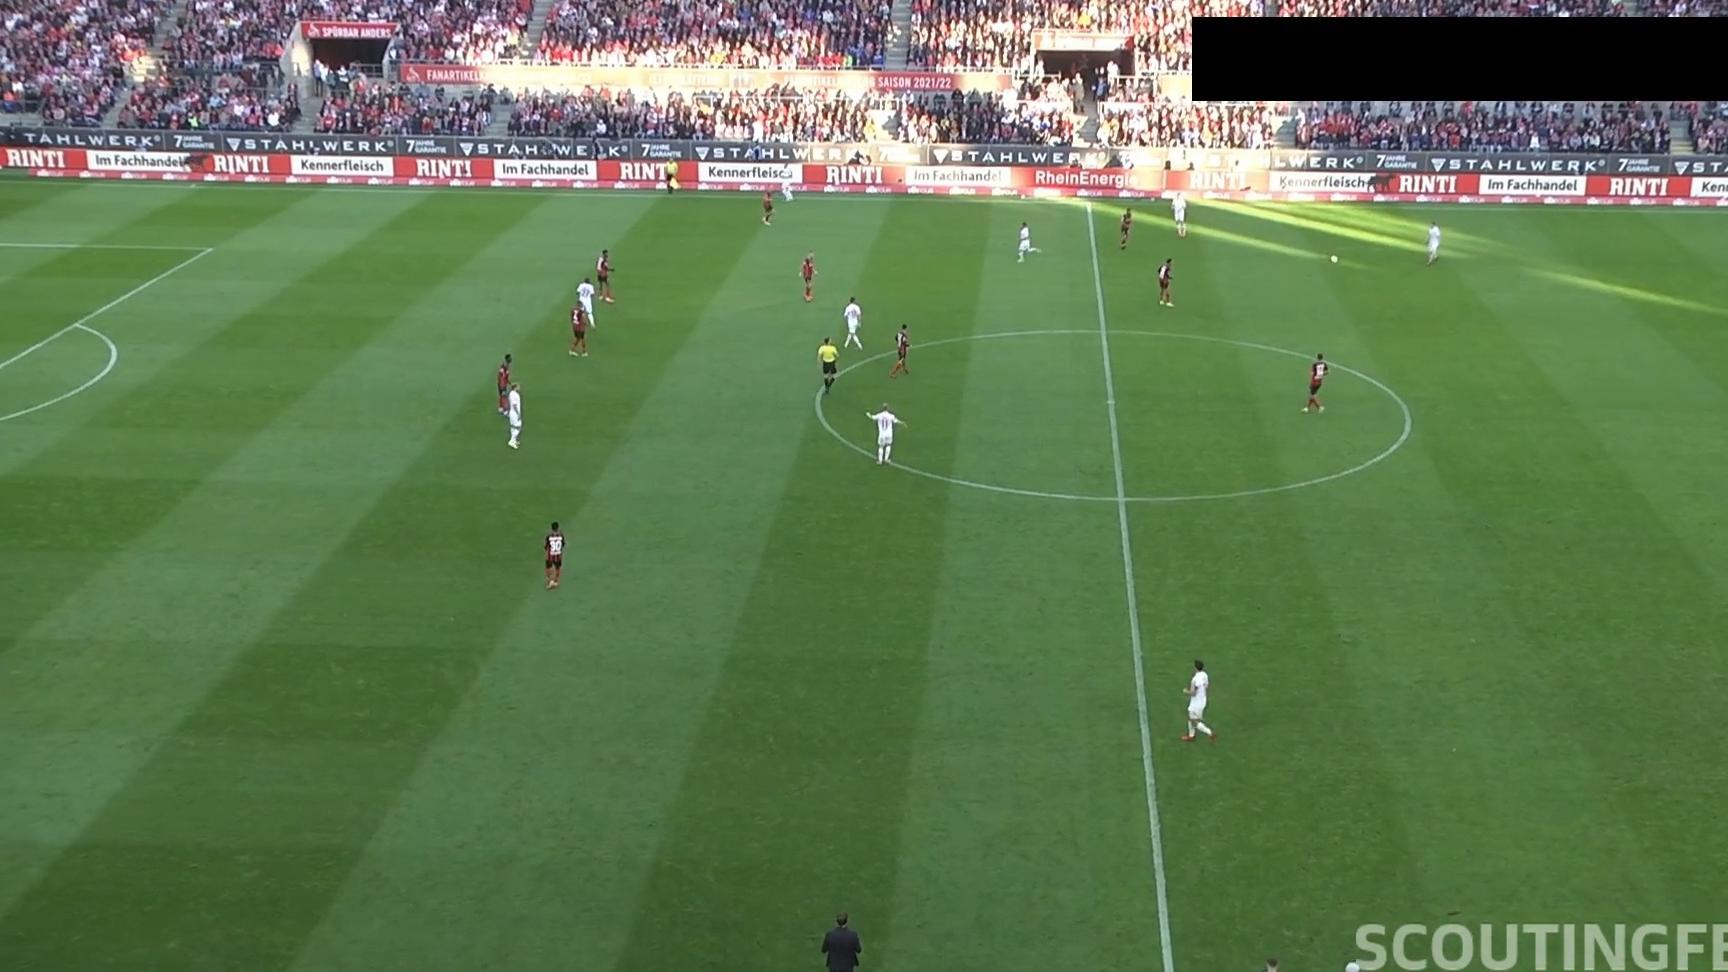ball: (1330, 254, 1339, 263)
